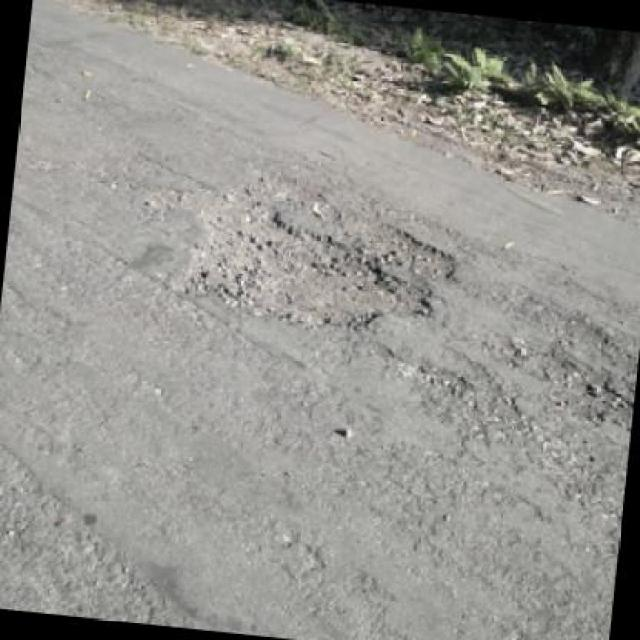pothole1: (122, 154, 468, 346)
